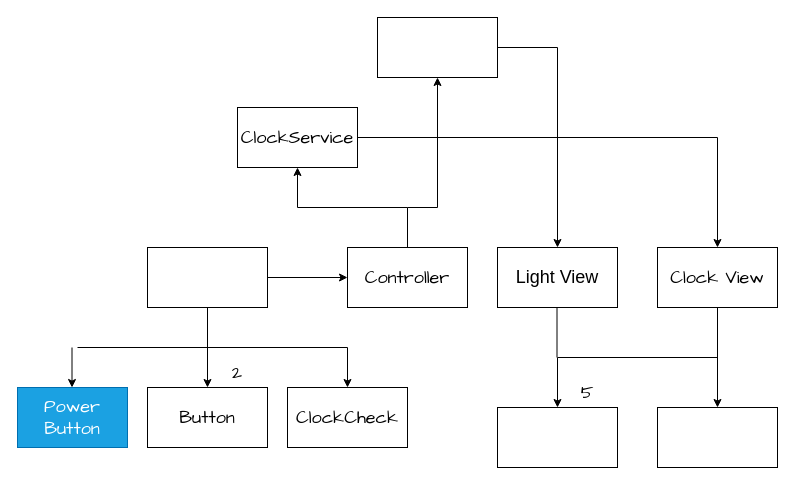
Image size: 795x485. Some labels were removed from this diagram. The shapes that lost their labels are listed below. From the top down, each one's centre as x and y in pixels, then its label:
At (x=437, y=47): "StandLight Service".
At (x=207, y=277): "Listener".
At (x=557, y=437): "Led".
At (x=717, y=437): "LCD".
